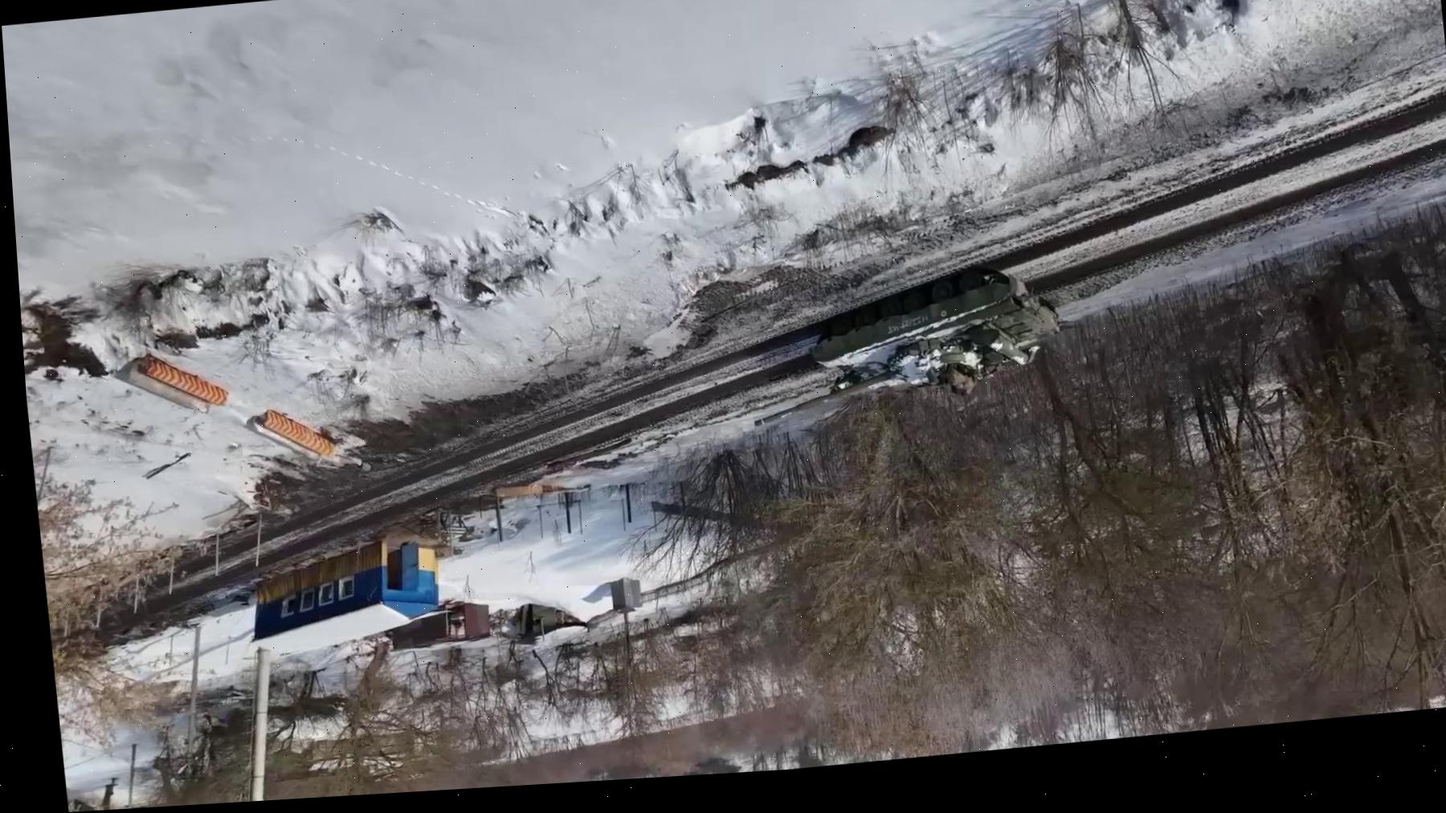tank: (736, 261, 1067, 430)
